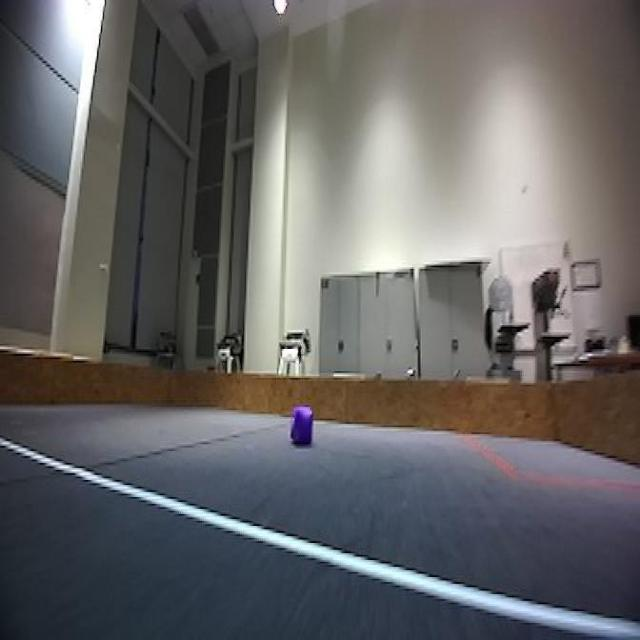frc_cube: (289, 402, 316, 449)
